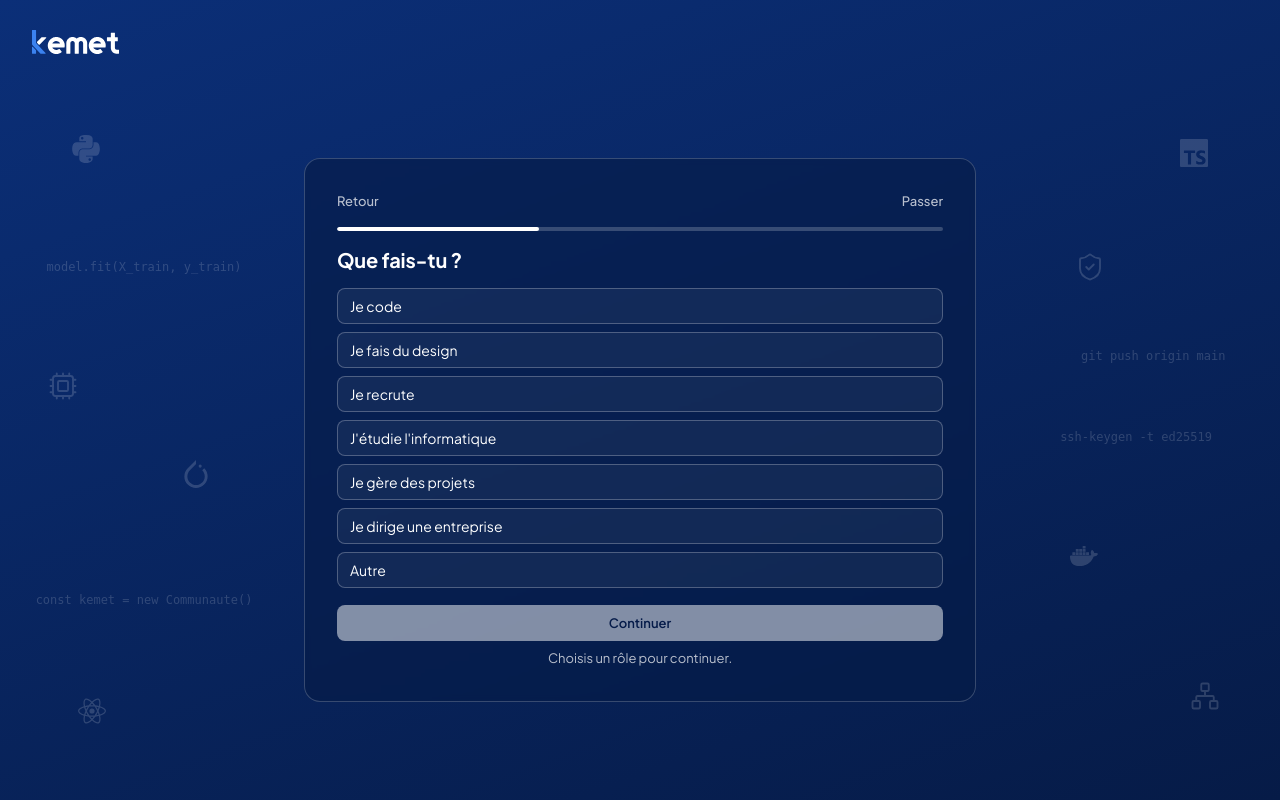
Test: OnboardingPage › garde l'erreur affichée et l'écran en place si l'enregistrement échoue
Click the button "Passer" at (922, 201), box [894,183,951,219]
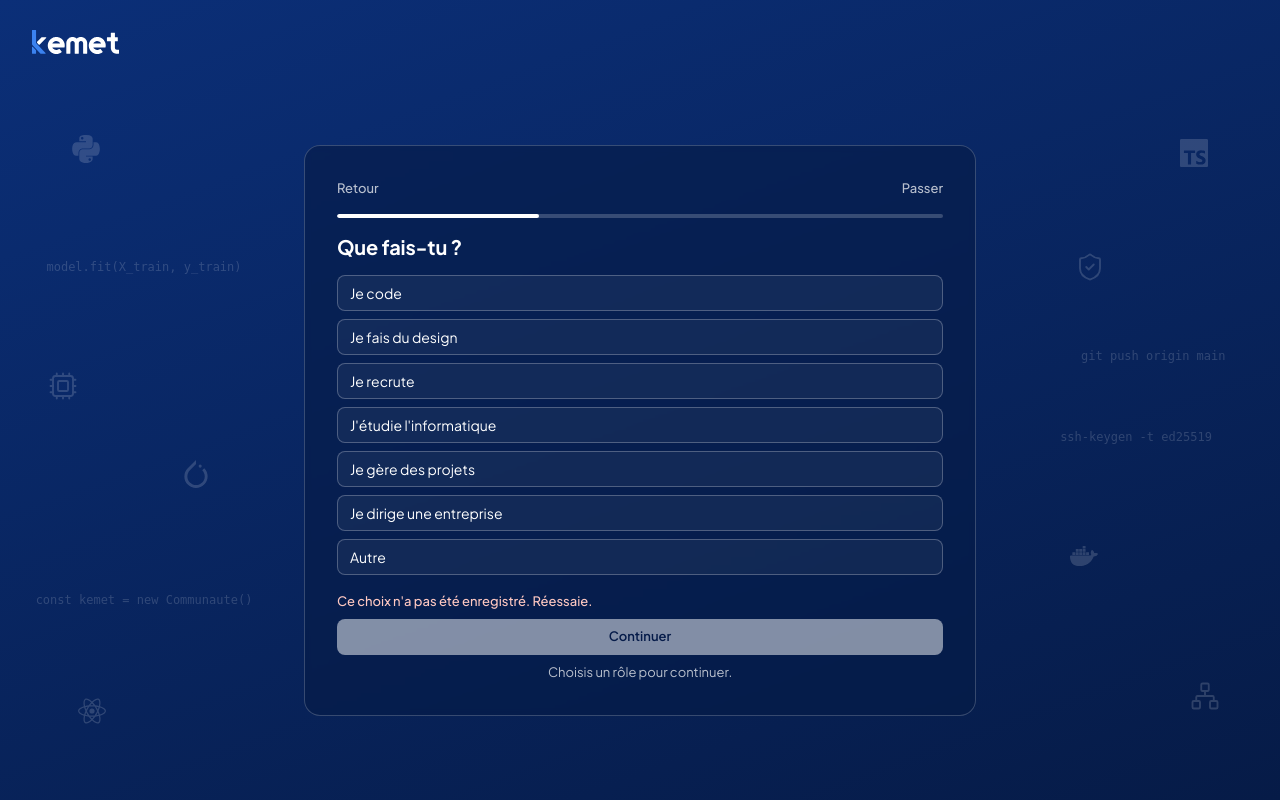
Expected: the heading "Que fais-tu ?" is shown, [337,234,462,258]
Now the message reads "Ce choix n'a pas été enregistré. Réessaie.", box [337,592,592,608]
